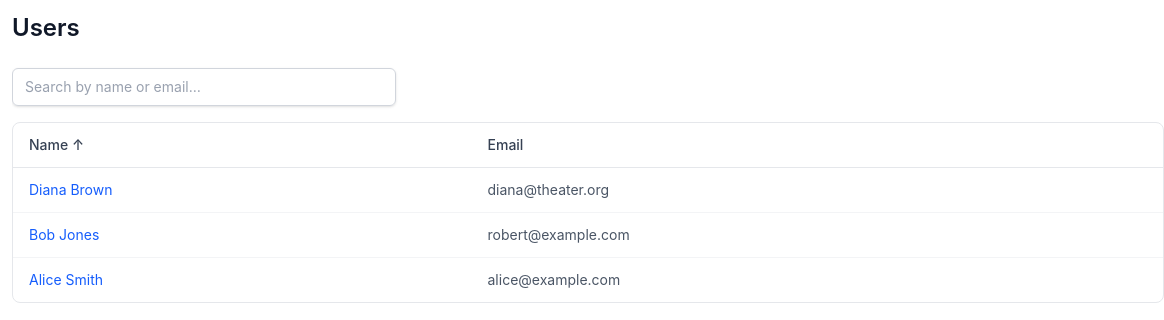
Scenario: UsersList search filtering › filters by last name
Type "Brown" into the search field with placeholder "Search by name or email…" at (204, 87), box [12, 68, 396, 106]
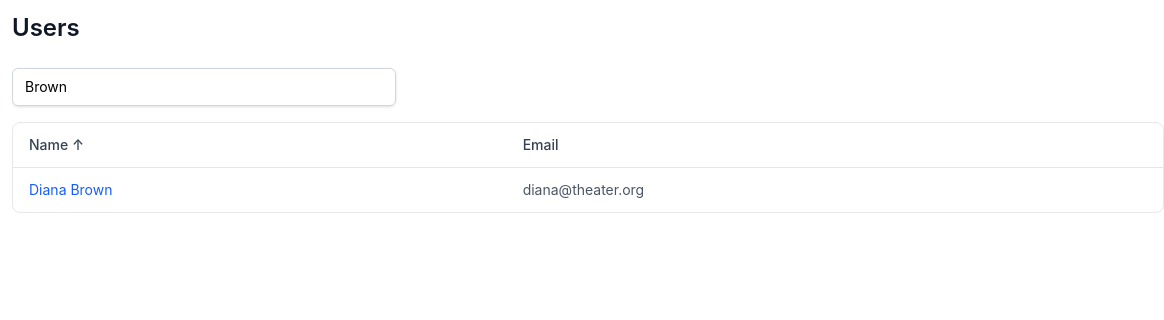
Expected: the link "Diana Brown" is shown, [29, 181, 112, 198]
Expected: the link "Alice Smith" is gone
Expected: the link "Bob Jones" is gone
